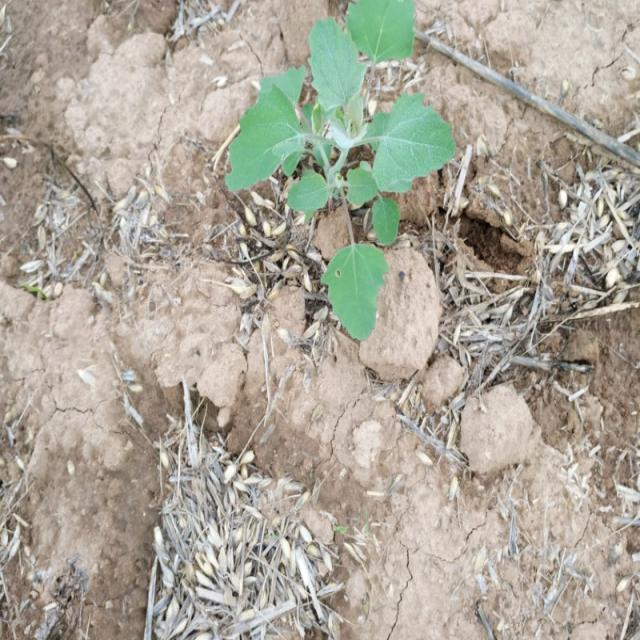goosefoots: (178, 0, 456, 323)
